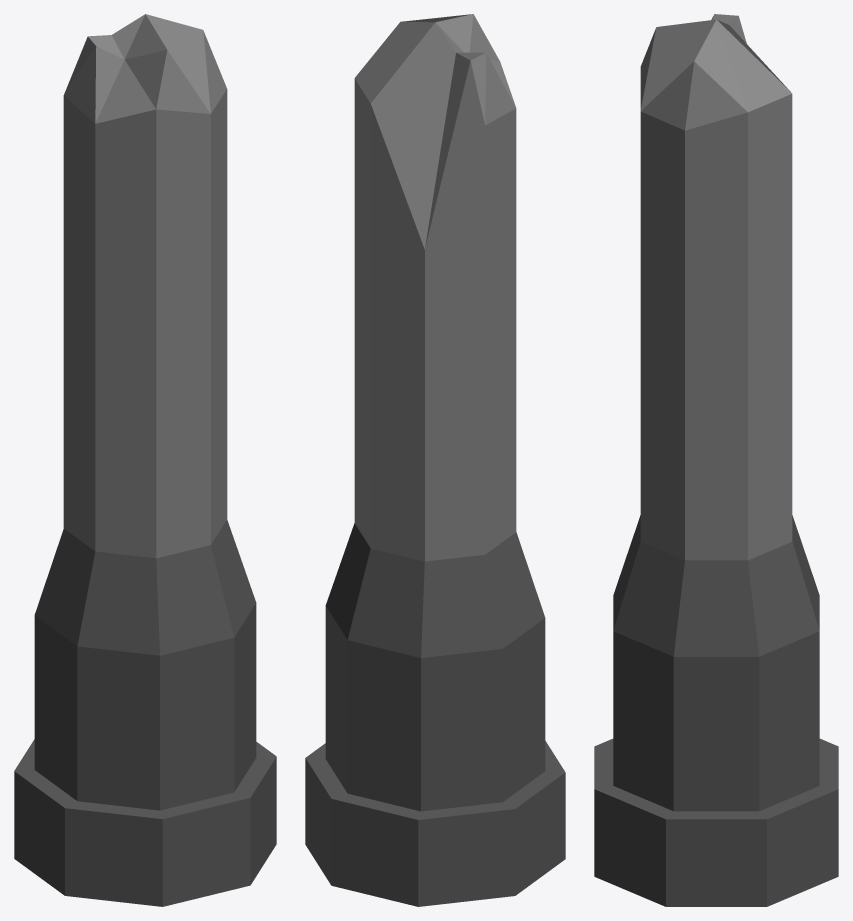
The model's file is column_broken.fbx.
3 renders of one model, left to right at view 1: azimuth 30°, elevation 25°; view 2: azimuth 150°, elevation 25°; view 3: azimuth 270°, elevation 25°, orthographic.
Parts seen in each view (by area): view 1: Cylinder.005; view 2: Cylinder.005; view 3: Cylinder.005.
Part boxes in pixels (x1,y1,x2,y2): Cylinder.005: (14,14,276,906); Cylinder.005: (305,14,565,906); Cylinder.005: (594,14,838,906).
Size of the model in its own units: 37.16 by 140 by 37.16.
